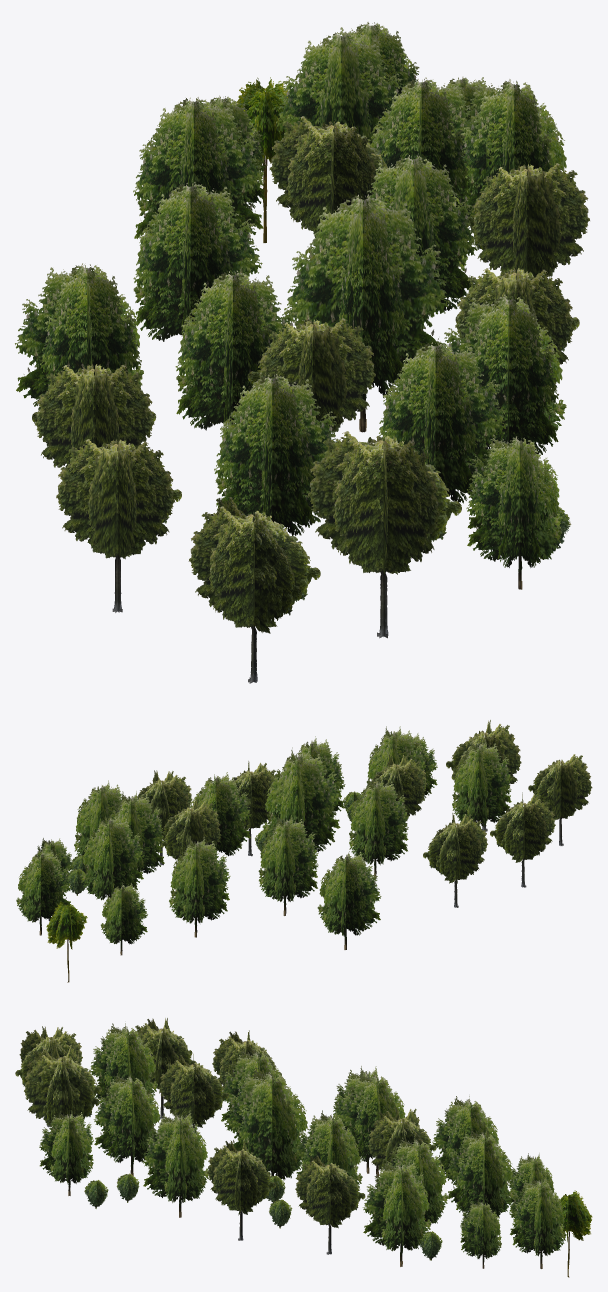
Rendered from ParkTreesChunk2.fbx.
3 views of the same model, one above another, from view 1: azimuth 30°, elevation 25°; view 2: azimuth 150°, elevation 25°; view 3: azimuth 270°, elevation 25° (orthographic). The views are drawn at different scales.
Visible parts, largest first — view 1: TreesPack.001; view 2: TreesPack.001; view 3: TreesPack.001.
Boxes of the visible parts, x1,y1,x2,y2 form: TreesPack.001: [15, 22, 589, 683]; TreesPack.001: [16, 720, 592, 982]; TreesPack.001: [15, 1018, 592, 1277].
Size of the model in its own units: 5395 by 2100 by 6875.
